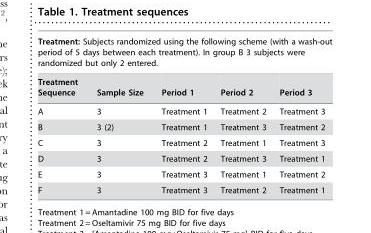table: (37, 36, 331, 194)
table column: (86, 36, 151, 194), (151, 36, 213, 194), (213, 36, 272, 194), (272, 36, 331, 194), (37, 36, 86, 194)
table column header: (37, 36, 331, 101)
table row: (37, 36, 331, 72), (37, 72, 331, 101), (37, 101, 331, 119), (37, 134, 331, 150), (37, 150, 331, 166), (37, 166, 331, 182), (37, 119, 331, 134), (37, 182, 331, 194)
table spanning cell: (37, 36, 331, 72)
